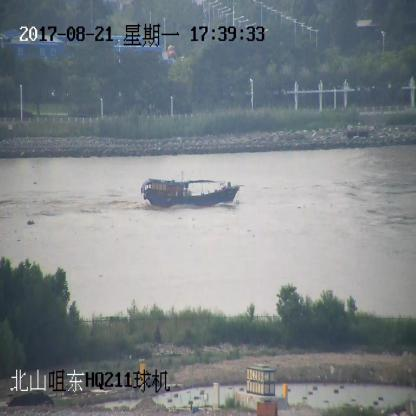Fishing Boat: (141, 176, 241, 209)
